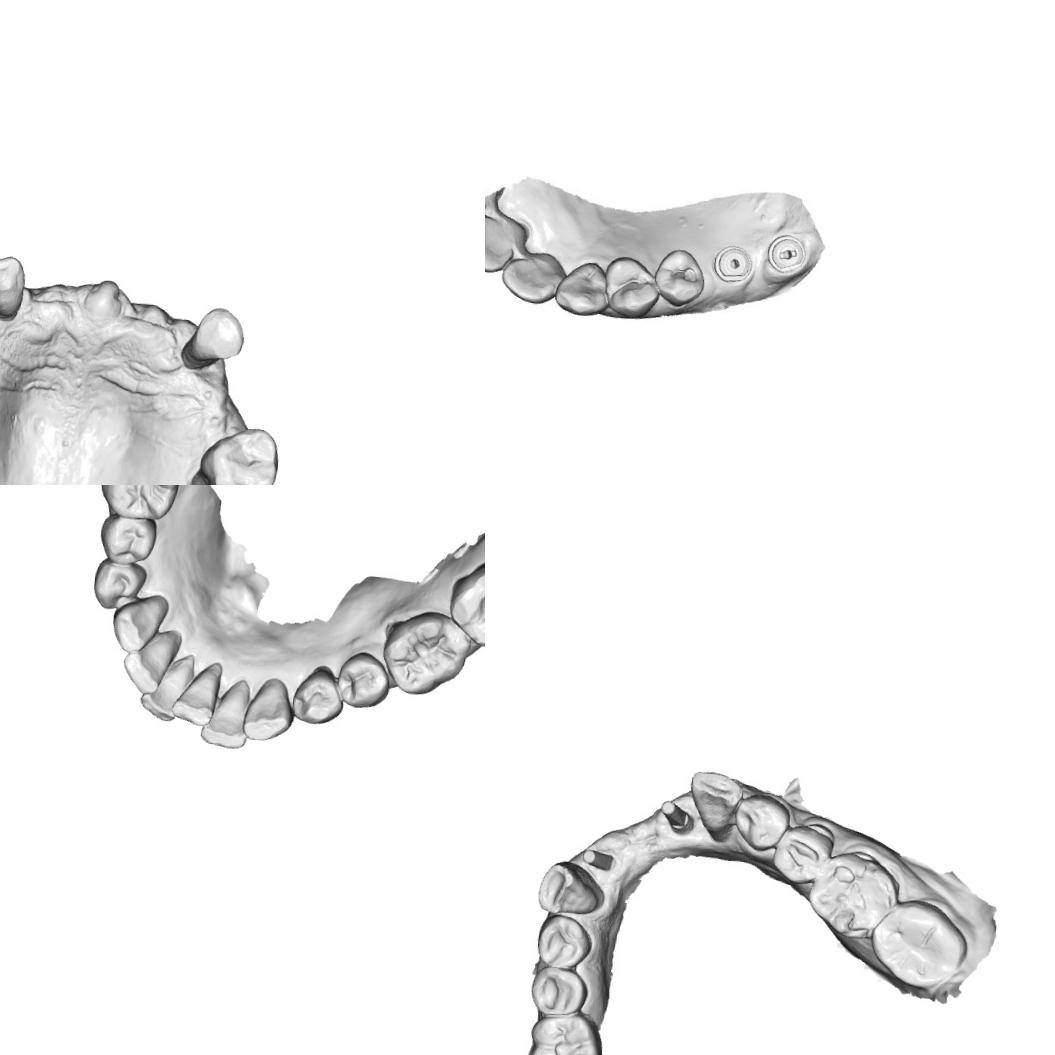abutment: (658, 796, 692, 840), (578, 845, 618, 873)
canine: (179, 303, 247, 374), (534, 858, 604, 918), (240, 673, 296, 744), (109, 589, 169, 655), (686, 768, 744, 836), (552, 256, 608, 319), (0, 250, 28, 323)
implant: (712, 244, 750, 281)
implant_minus: (762, 234, 806, 278)
incisor: (137, 650, 197, 723), (119, 631, 179, 697), (171, 659, 225, 728), (200, 681, 253, 748), (498, 250, 558, 306), (485, 206, 519, 278)
molar: (864, 893, 972, 994), (803, 847, 902, 945), (377, 606, 471, 699), (188, 421, 281, 485), (442, 554, 485, 651), (524, 1008, 603, 1055), (90, 485, 184, 524)
premolar: (769, 820, 836, 887), (600, 253, 660, 321), (732, 790, 792, 853), (651, 243, 708, 309), (532, 911, 595, 970), (287, 664, 344, 728), (96, 512, 158, 570), (524, 963, 588, 1018), (334, 649, 390, 711), (90, 556, 146, 614)
